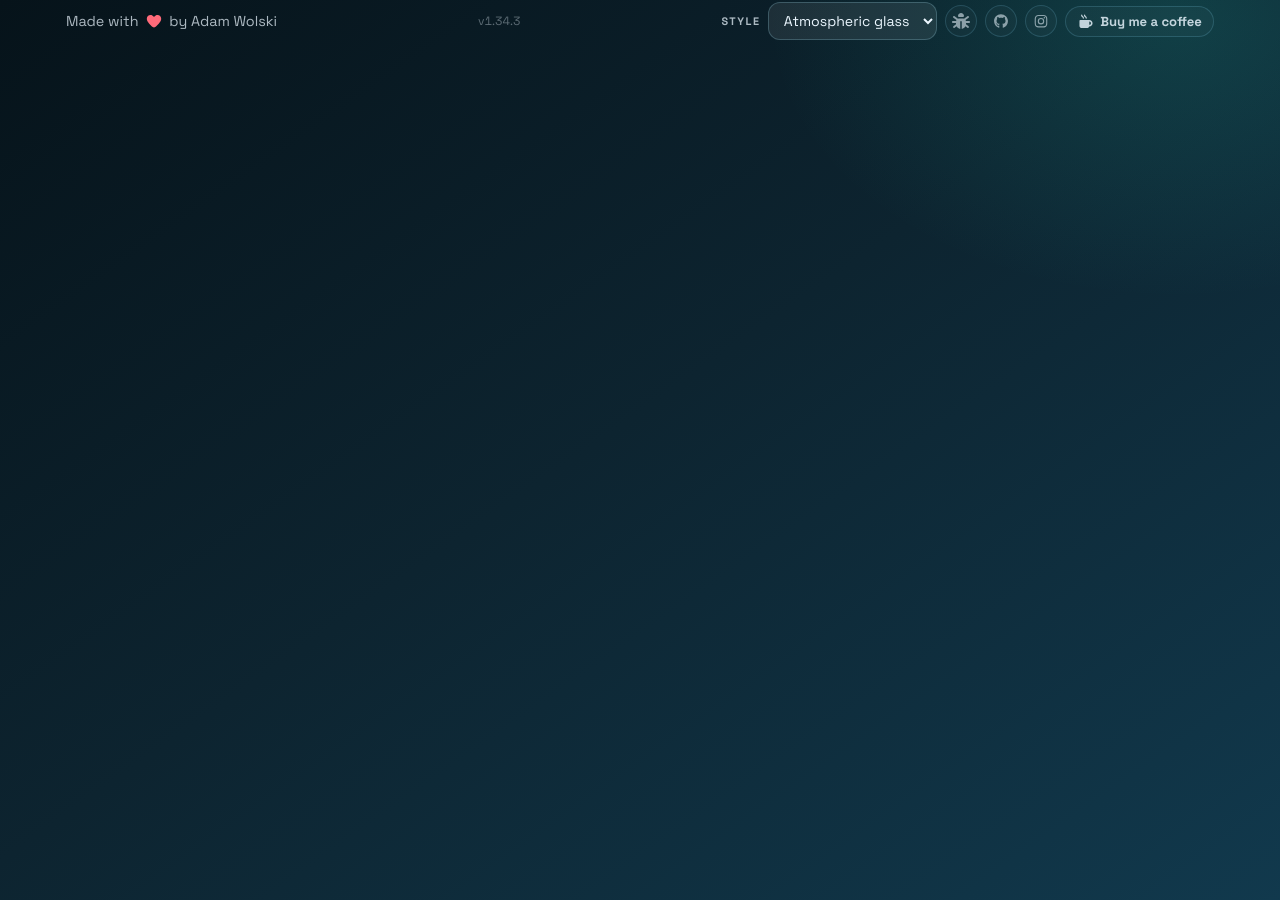
Scenario: Footer › opens the report modal on a click, and not before one
Click the button with test id "report-bug-button" at [961, 21], box top-left (945, 5), bottom-right (977, 37)
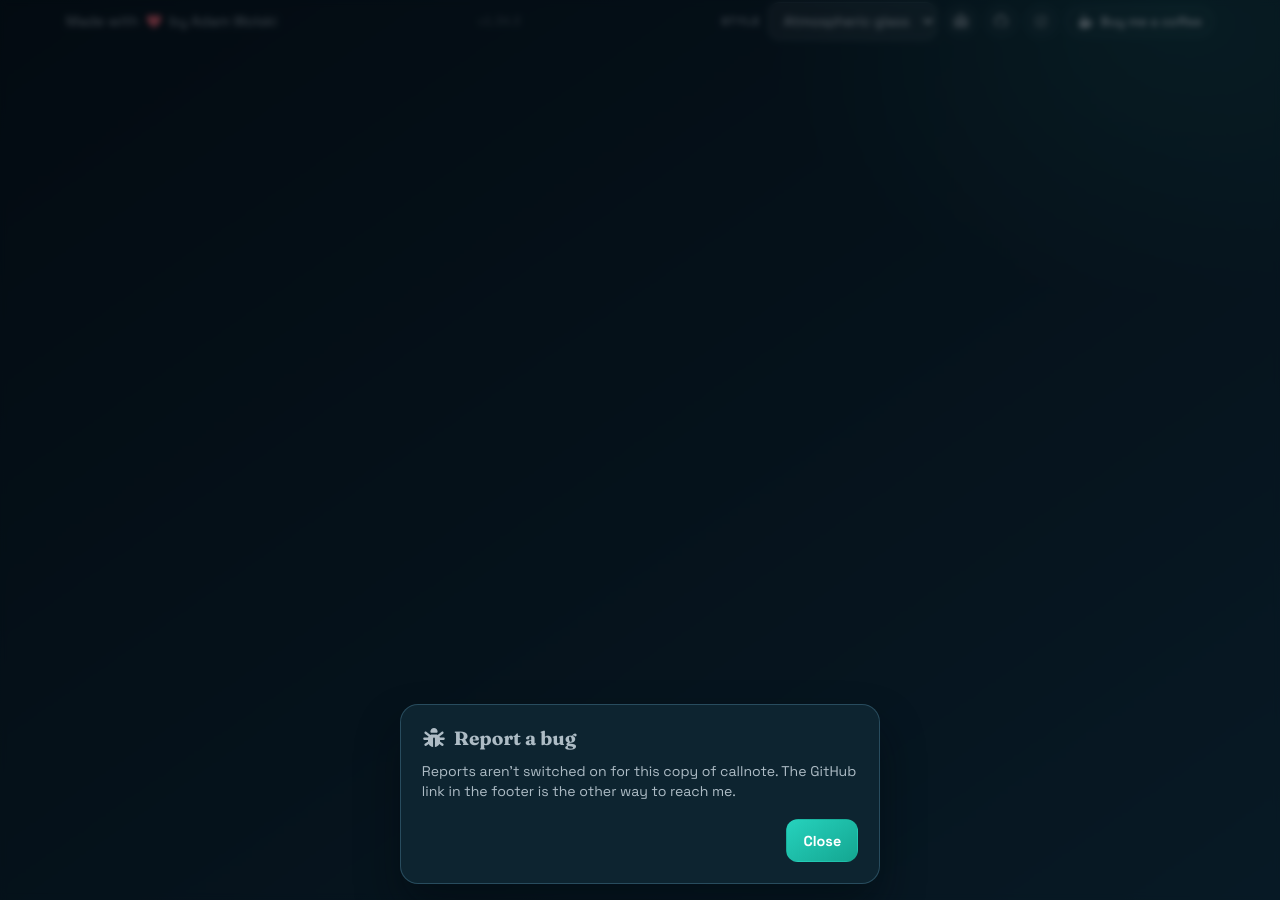
expect the element with test id "bug-report-modal" is shown: met
expect the text with test id "bug-unavailable" is shown: met, box top-left (422, 761), bottom-right (858, 802)
